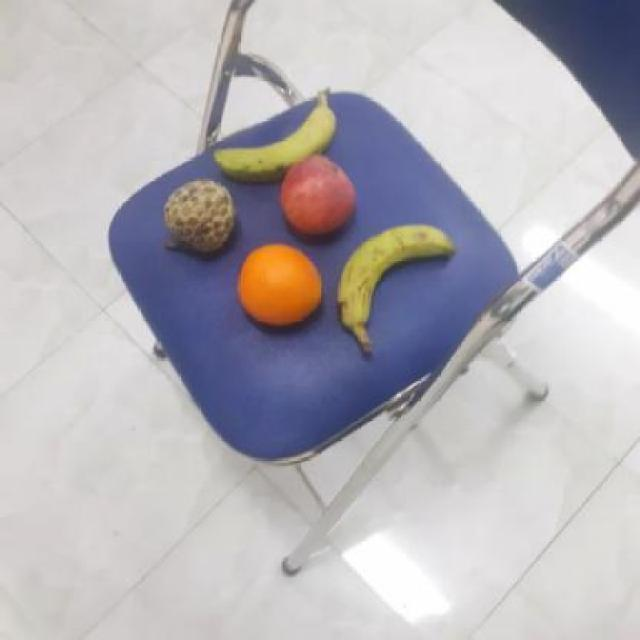apple: (275, 155, 360, 240)
banana: (333, 223, 456, 328), (204, 98, 341, 178)
oren: (234, 242, 328, 329)
sugar apple: (163, 174, 240, 254)
